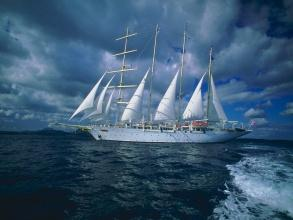fanchuan: (63, 22, 264, 147)
